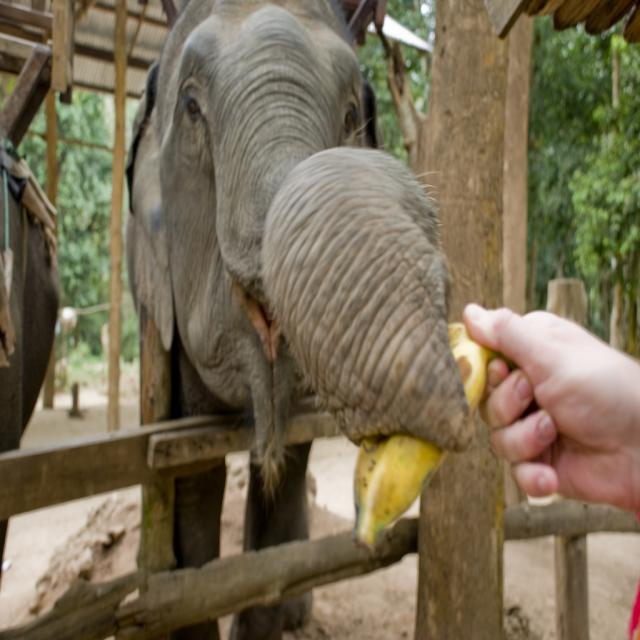elephant: (120, 4, 491, 598)
